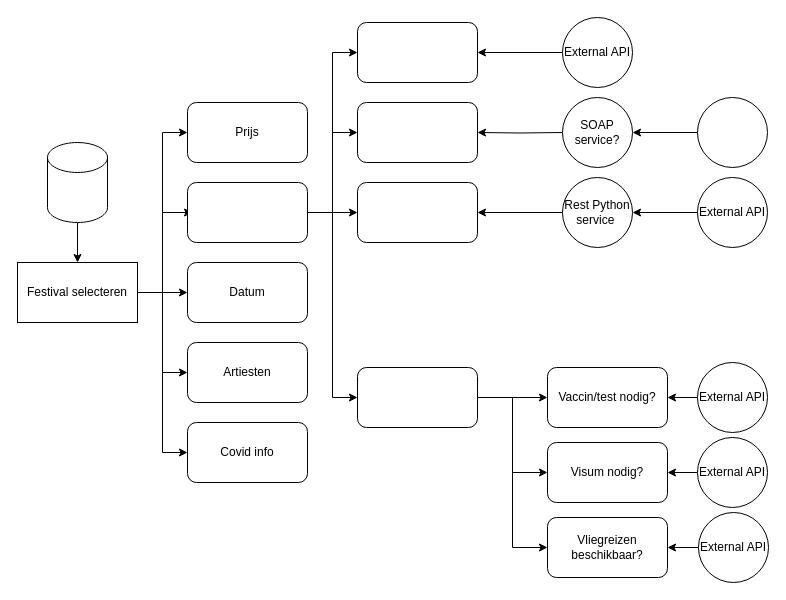
This 786x600 diagram has some shape labels left out. Each missing label, with the centre of its shape:
Database: point 77,182
External API of database: point 732,132
Land: point 247,212
Land Covid status: point 417,132
Reis info: point 417,397
Tijdzone: point 417,52
Valuta: point 417,212
